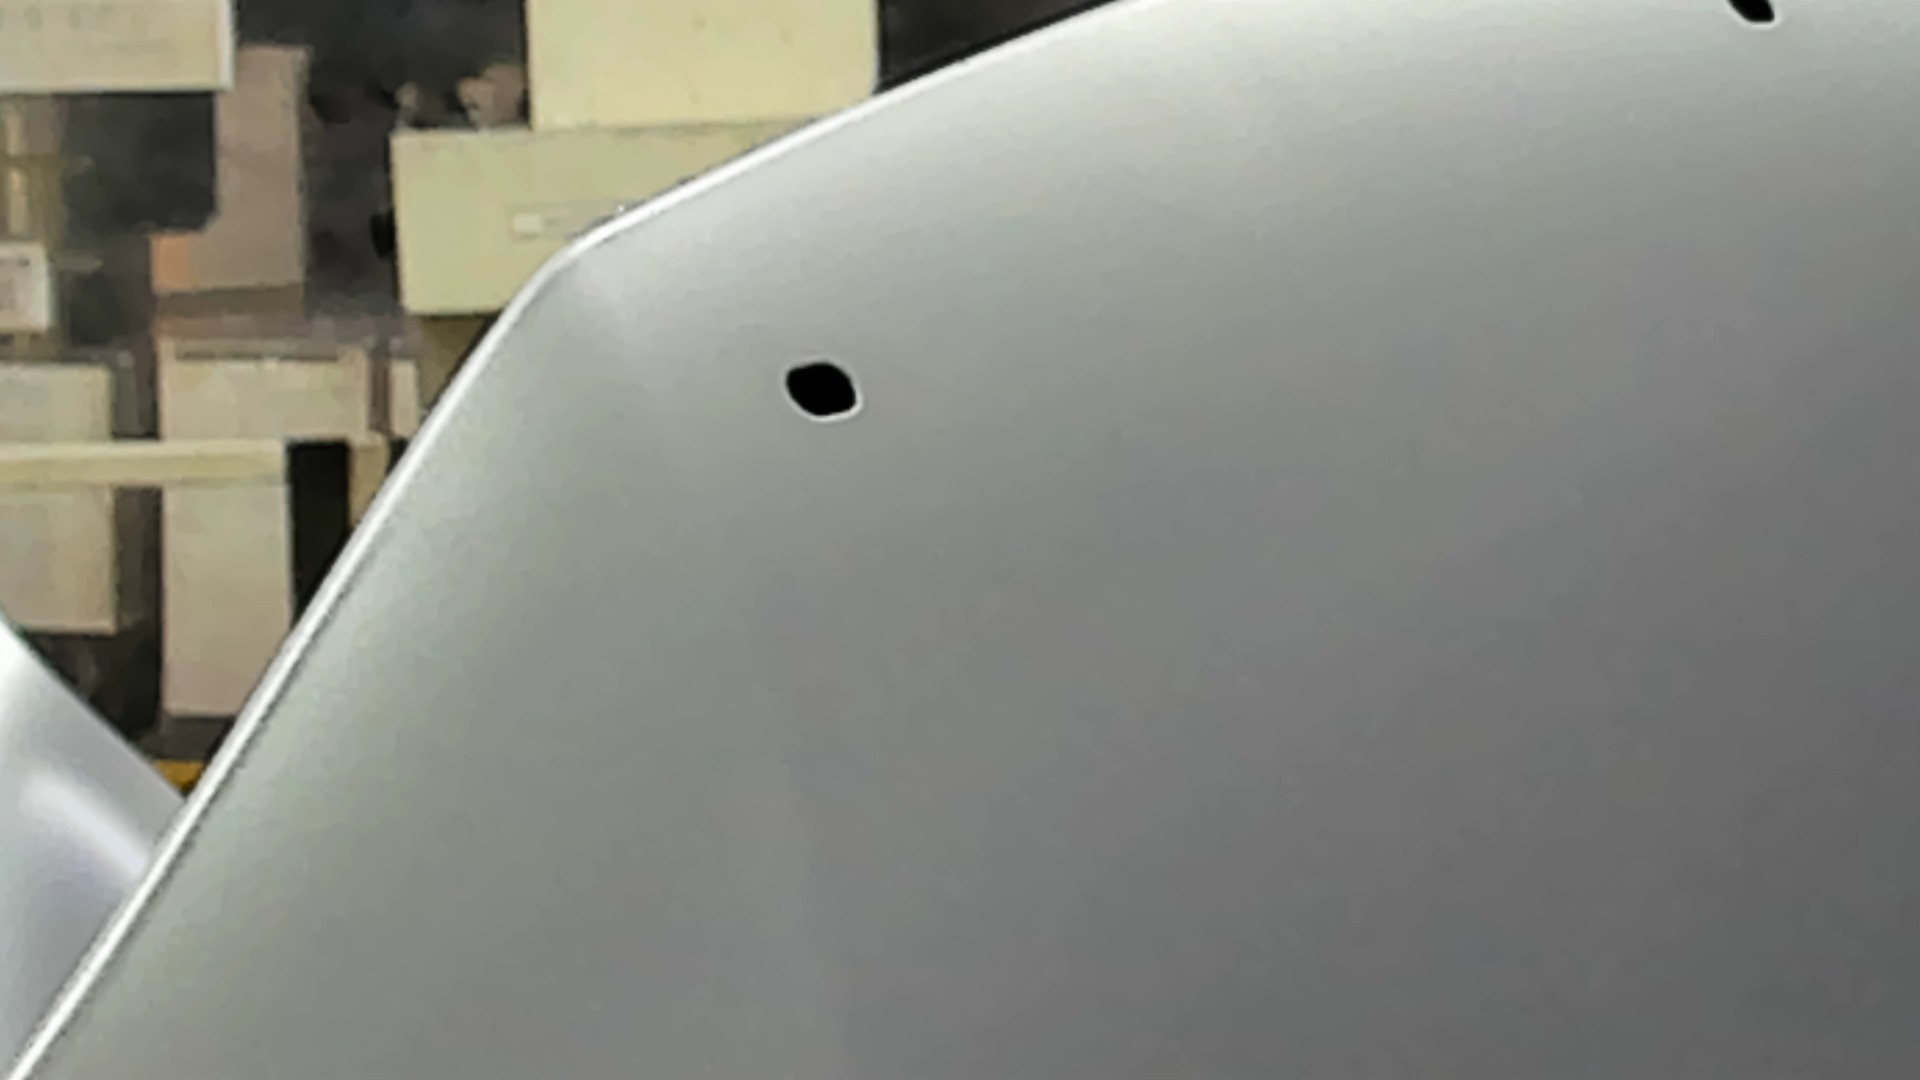amorfo: (775, 356, 872, 425), (1720, 1, 1788, 36)
capo: (978, 74, 1920, 1080)
